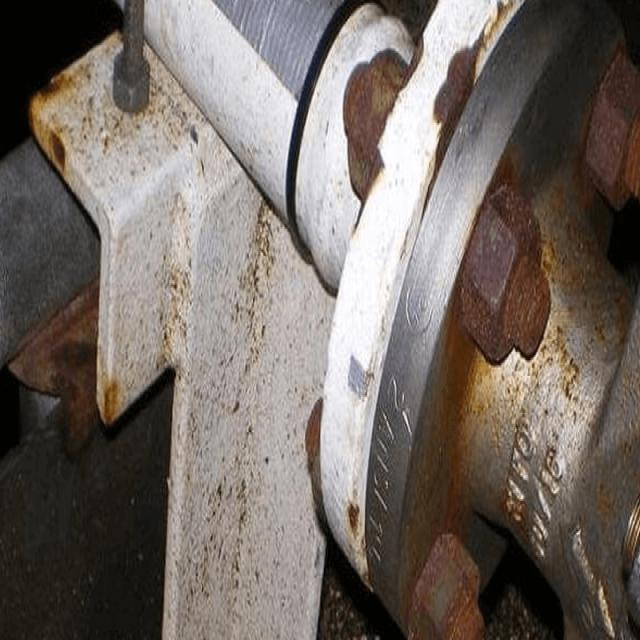Regular bolt: (113, 10, 153, 112)
Rusty bolt: (464, 185, 551, 363), (344, 46, 404, 198), (412, 533, 485, 640), (306, 396, 325, 514)
